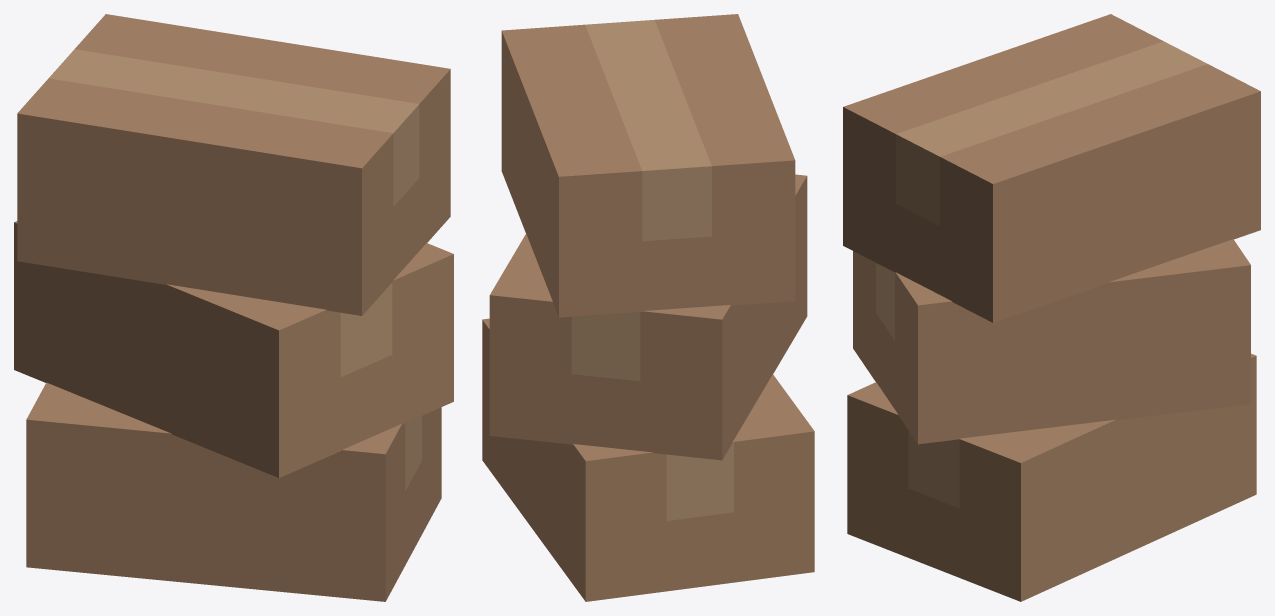
File: Parcels.fbx
The picture shows the model from 3 angles, left to right: view 1: azimuth 30°, elevation 25°; view 2: azimuth 150°, elevation 25°; view 3: azimuth 270°, elevation 25°; orthographic projection. The views are drawn at different scales.
Visible parts, largest first — view 1: Parcel-1.450, Parcel-1.449, Parcel-1.448; view 2: Parcel-1.450, Parcel-1.448, Parcel-1.449; view 3: Parcel-1.450, Parcel-1.448, Parcel-1.449.
Boxes of the visible parts, bbox=[...] form: Parcel-1.450: bbox=[17, 14, 450, 315]; Parcel-1.449: bbox=[14, 221, 453, 477]; Parcel-1.448: bbox=[26, 382, 441, 601]; Parcel-1.450: bbox=[501, 14, 795, 317]; Parcel-1.448: bbox=[482, 318, 814, 601]; Parcel-1.449: bbox=[489, 174, 807, 460]; Parcel-1.450: bbox=[843, 14, 1260, 322]; Parcel-1.448: bbox=[847, 353, 1256, 601]; Parcel-1.449: bbox=[853, 239, 1250, 444].
Size of the model in its own units: 2.13 by 2.35 by 2.14.
